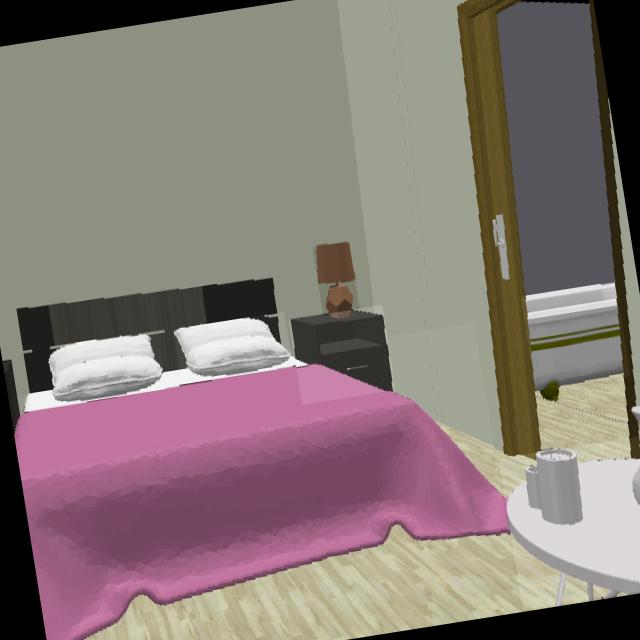bathtube: (527, 283, 625, 391)
bed: (14, 359, 508, 640)
lamp: (316, 246, 355, 325)
nighttable: (291, 314, 394, 392)
pillow: (49, 334, 164, 403), (175, 318, 292, 378)
table: (507, 451, 640, 594)
